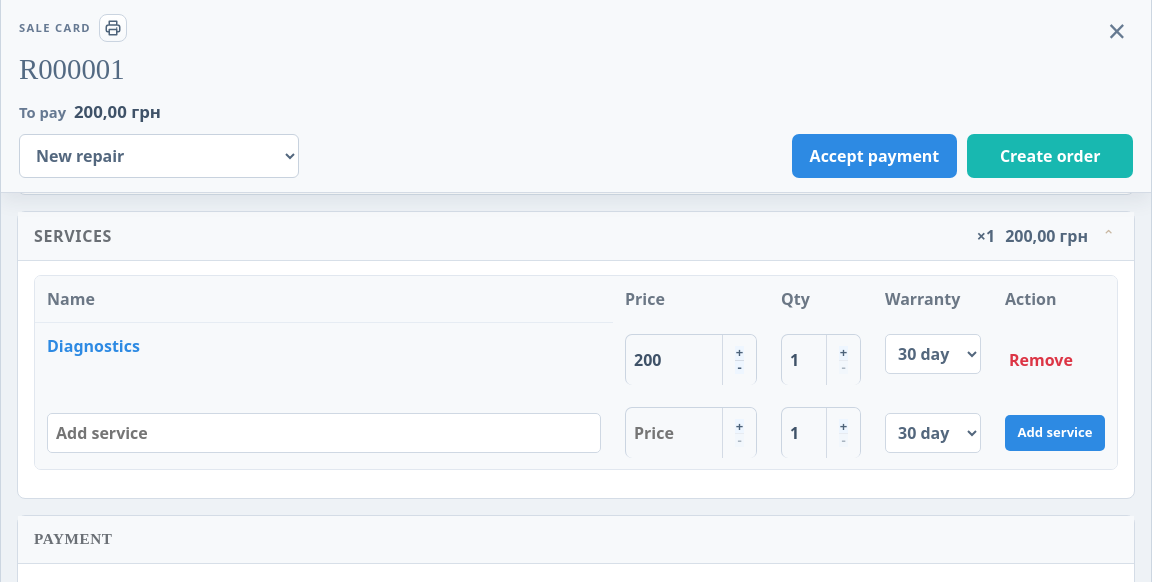
Test case: OrderDetailCard product entry › hides W2 when the catalog service only has wholesale 1
Focus the field showing "200": (674, 360) [626,335,722,385]
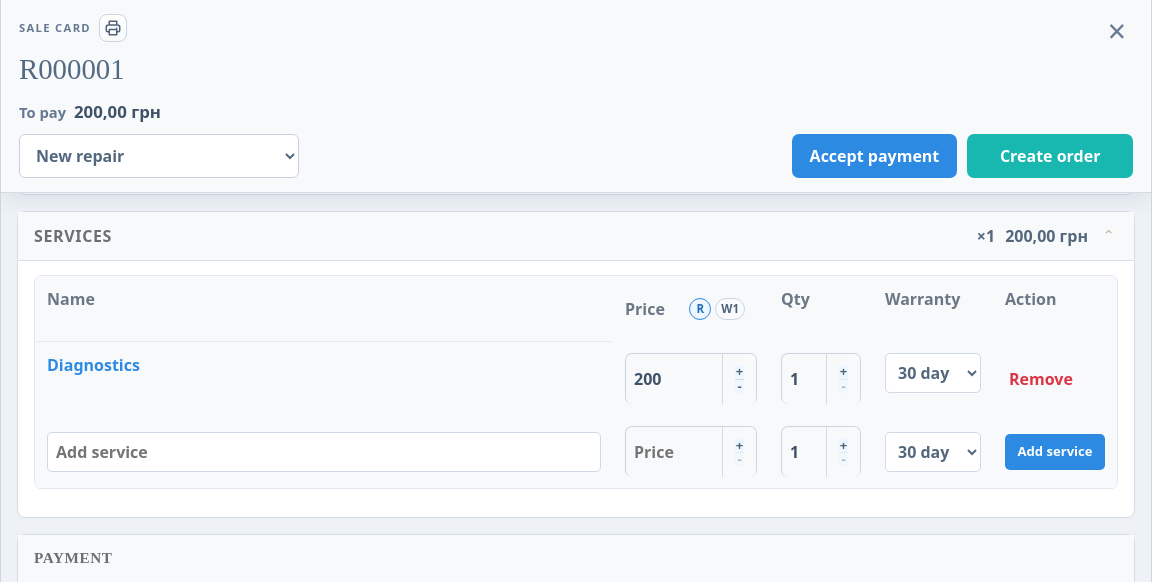
Expected: the button named "Wholesale 1" is shown, [715,298,745,320]
